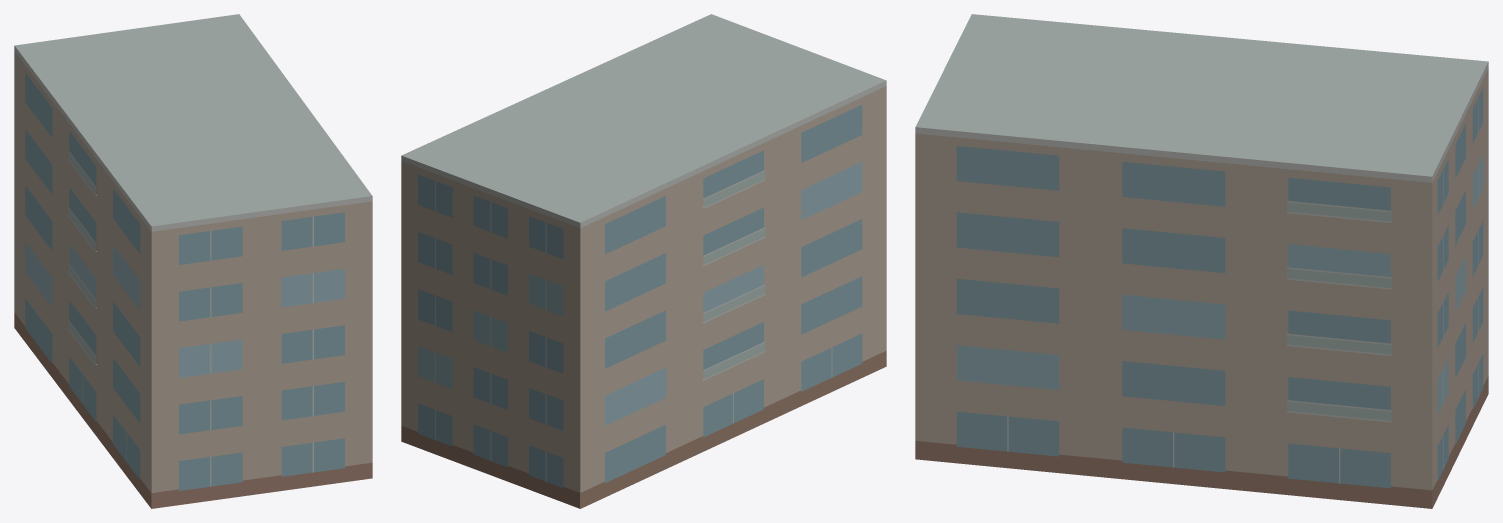
The model's file is survey-upis-33004972.glb.
3 views of the same model, side by side, from view 1: azimuth 30°, elevation 25°; view 2: azimuth 150°, elevation 25°; view 3: azimuth 270°, elevation 25° (orthographic). The views are drawn at different scales.
Parts seen in each view (by area): view 1: survey-upis-33004972.tmp; view 2: survey-upis-33004972.tmp; view 3: survey-upis-33004972.tmp.
Part boxes in pixels (bbox=[...]): survey-upis-33004972.tmp: bbox=[14, 14, 372, 508]; survey-upis-33004972.tmp: bbox=[401, 14, 886, 508]; survey-upis-33004972.tmp: bbox=[915, 14, 1488, 508].
Bounding box in the file's own units: 13.56 × 12.9 × 20.18.
